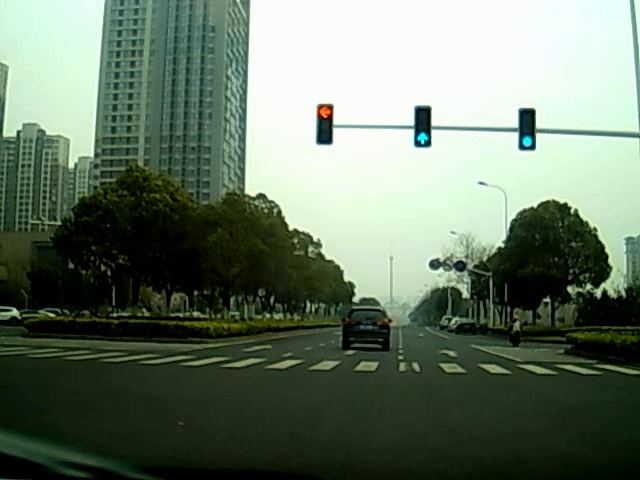Traffic_Light_go: (413, 106, 430, 148), (519, 109, 536, 150)
Traffic_Light_stop: (316, 105, 335, 140)
